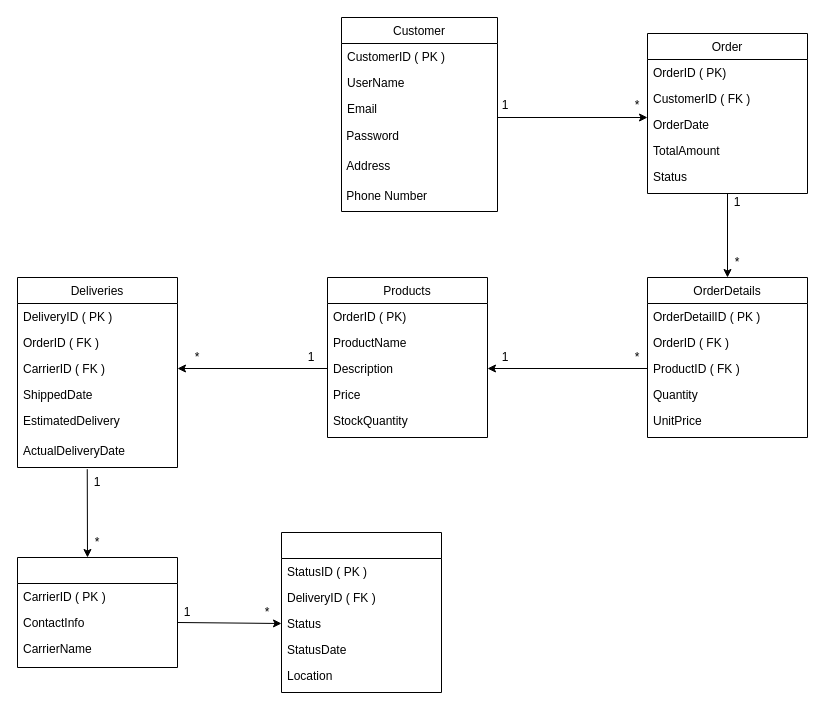
Image size: 825x713. Some labels were removed from this diagram. The box of each missing label's shape, as (x1, y1, x2, y2) in pixels:
Carriers: (16, 556, 178, 668)
DeliveryStatus: (280, 532, 442, 692)
